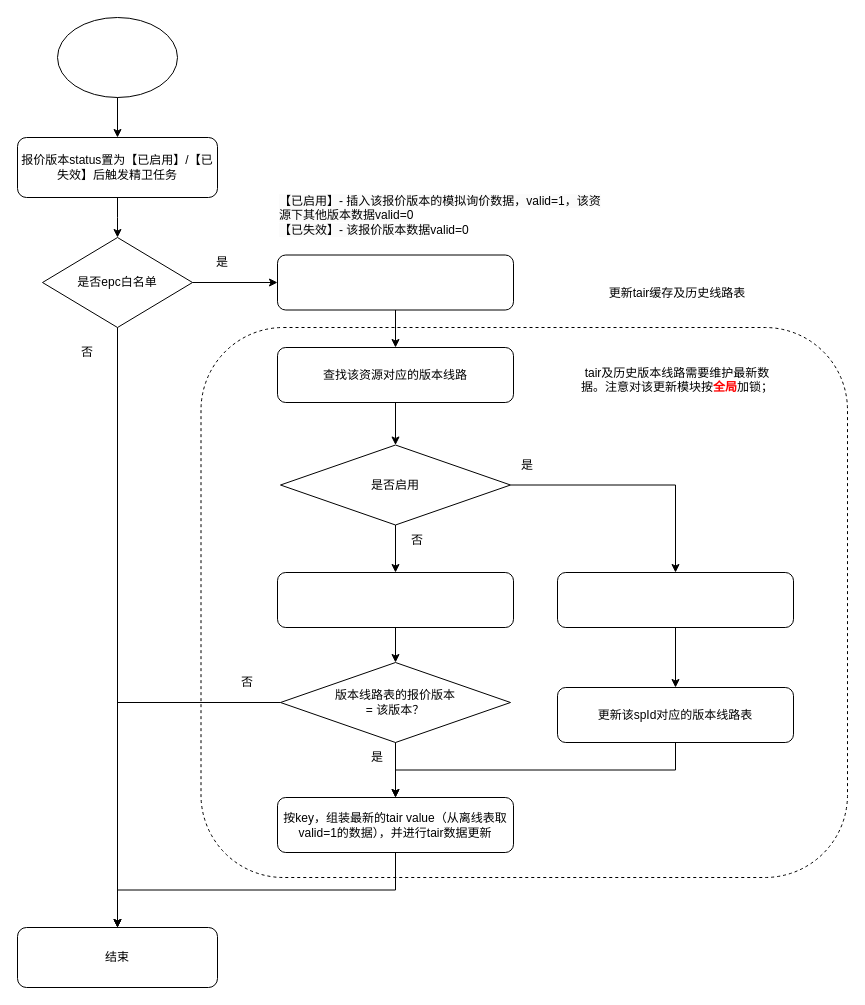
This 865x1005 diagram has some shape labels left out. The shapes that lost their labels are listed below. From the top down, each one's box as (x1, y1, x2, y2) in pixels, then its label:
(56, 16, 178, 98): 开始
(276, 254, 514, 310): epc离线表数据更新（t_sc_estimator_ocean_fcl_offline_solution）
(276, 572, 514, 628): 按报价版本ID，从离线表找到所有数据 （组装key集合 ）
(556, 572, 794, 628): 该resourceId历史报价版本集合与该版本key集合取并集，获取全量需要更新的key集合
